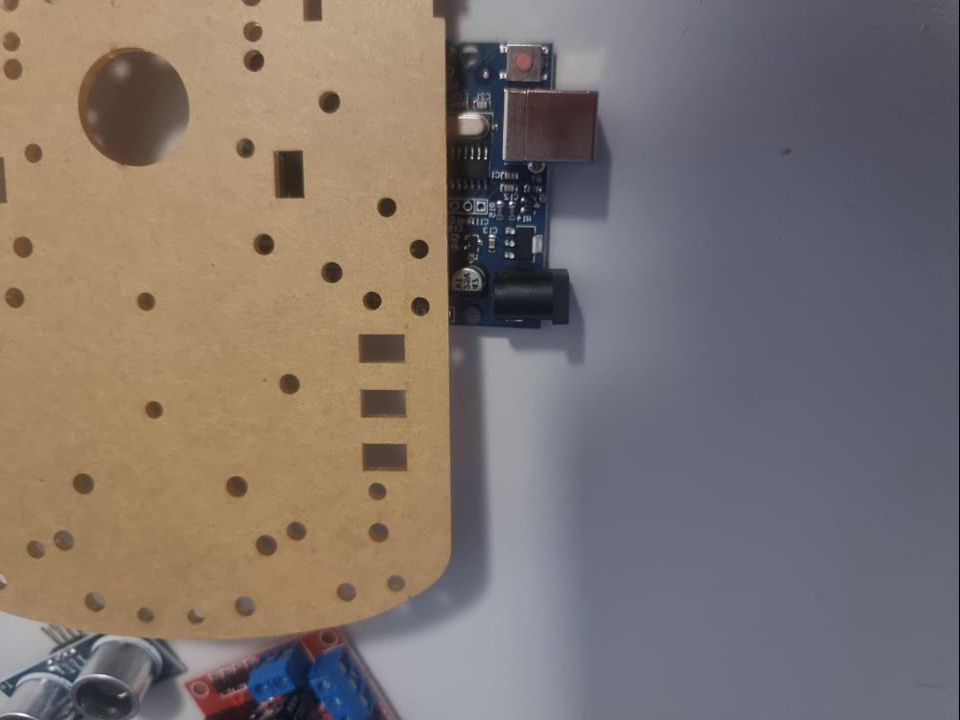UNO R3: (440, 35, 609, 349)
